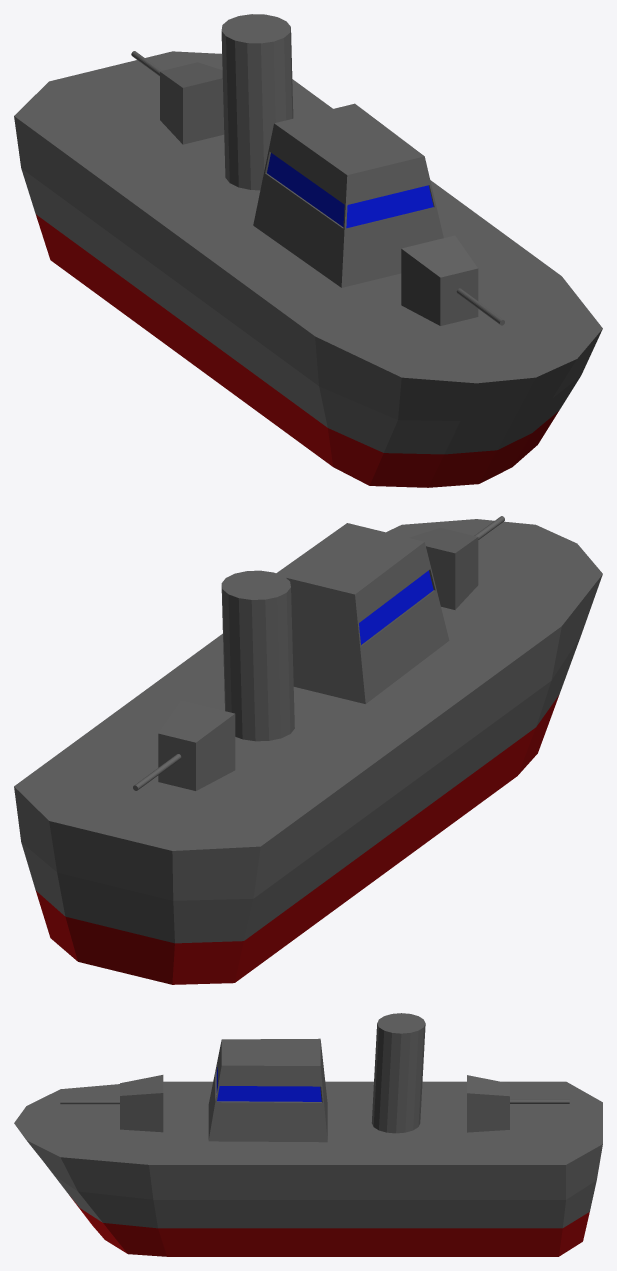
The model's file is two_tile_ship.fbx.
The picture shows the model from 3 angles, top to bottom: view 1: azimuth 30°, elevation 25°; view 2: azimuth 150°, elevation 25°; view 3: azimuth 270°, elevation 25°; orthographic projection. The views are drawn at different scales.
Parts seen in each view (by area): view 1: Cube.002, Cylinder.002, Cube.003, Cube.004; view 2: Cube.002, Cylinder.002, Cube.004, Cube.003; view 3: Cube.002, Cylinder.002, Cube.003, Cube.004.
Part boxes in pixels (x1,y1,x2,y2): Cube.002: [14, 51, 602, 487]; Cylinder.002: [221, 14, 293, 190]; Cube.003: [401, 235, 478, 325]; Cube.004: [160, 62, 224, 144]; Cube.002: [14, 519, 602, 984]; Cylinder.002: [221, 570, 294, 741]; Cube.004: [158, 700, 235, 790]; Cube.003: [409, 527, 478, 609]; Cube.002: [14, 1038, 602, 1256]; Cylinder.002: [371, 1013, 425, 1133]; Cube.003: [120, 1075, 163, 1132]; Cube.004: [467, 1075, 509, 1132].
Bounding box in the file's own units: 4.1 × 1.55 × 1.37.
